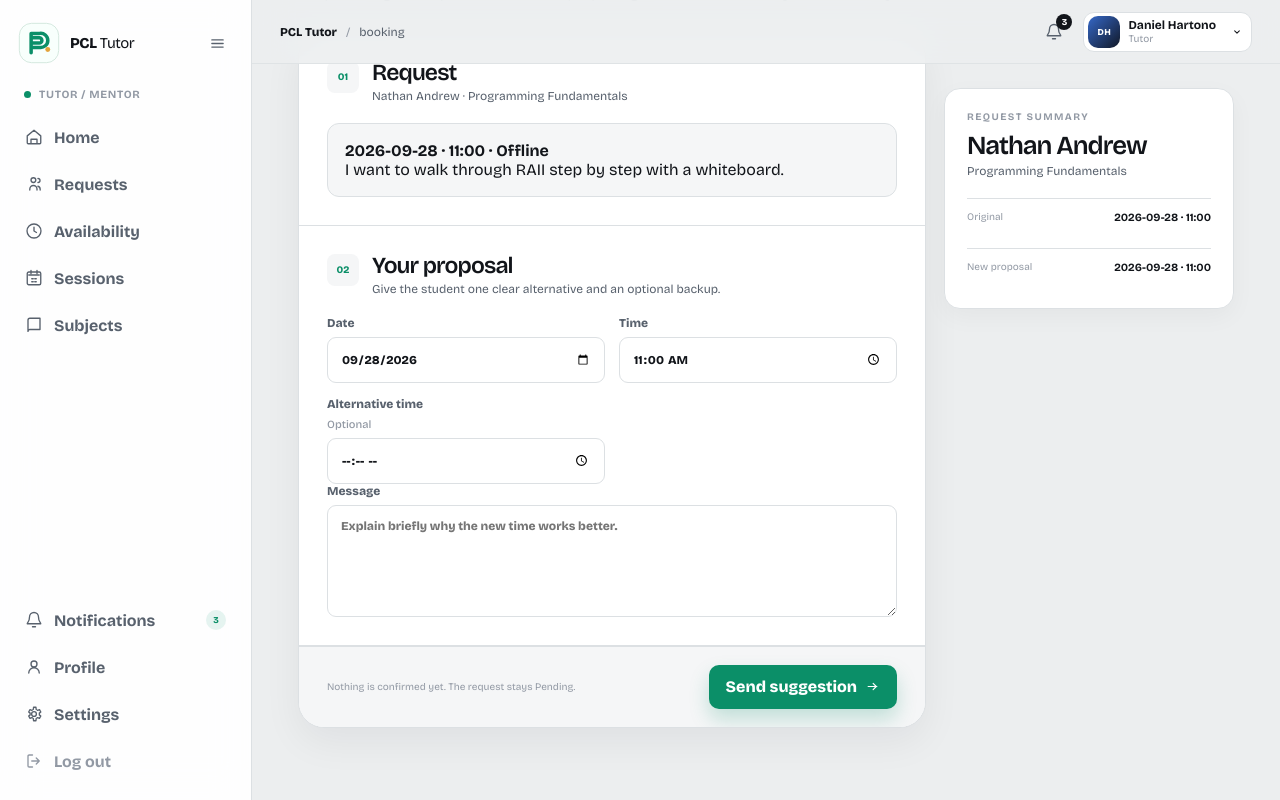
Test: suggest another time form › keeps the typed message after cancelling the review
The image size is (1280, 800).
(page scrolled)
Type "Evening works better" into the text box labelled "Message" at (612, 561), box x1=327 y1=505 x2=897 y2=617
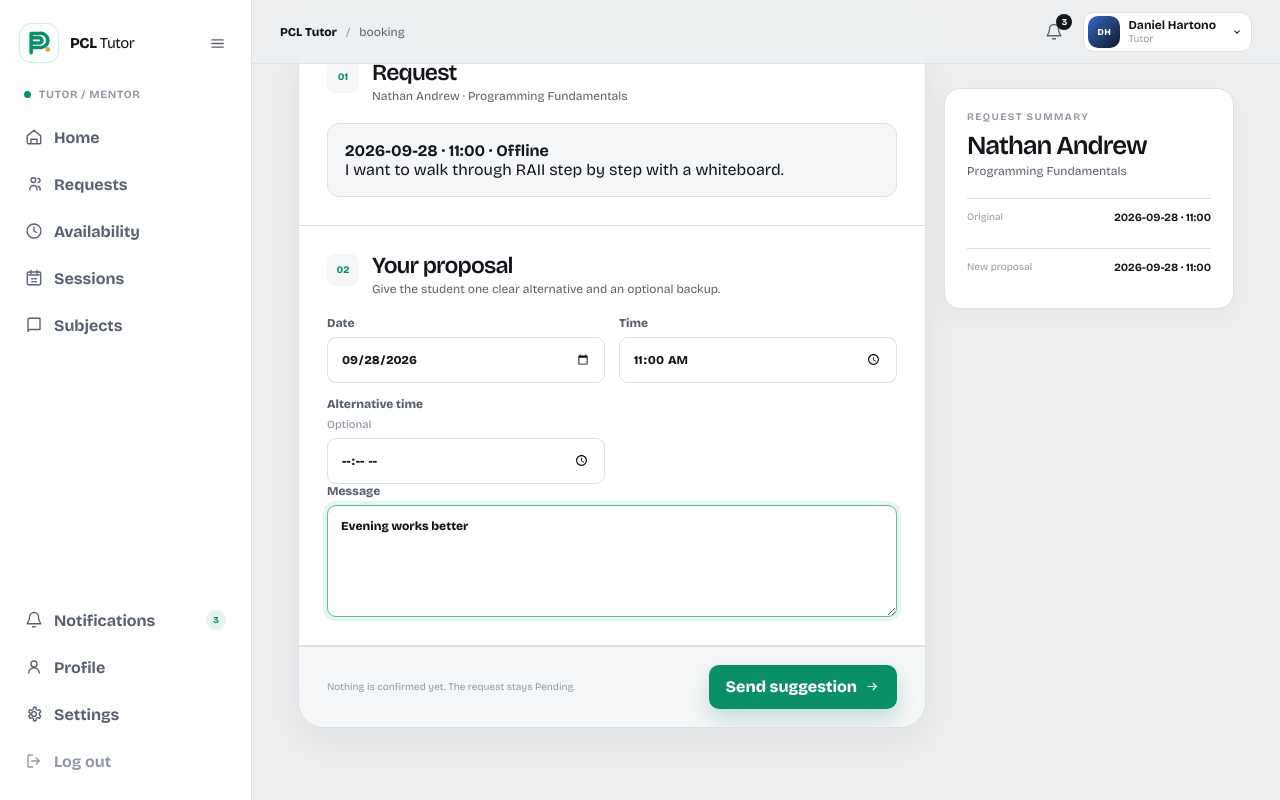
Click the button "Send suggestion" at (803, 687), box x1=709 y1=665 x2=897 y2=709
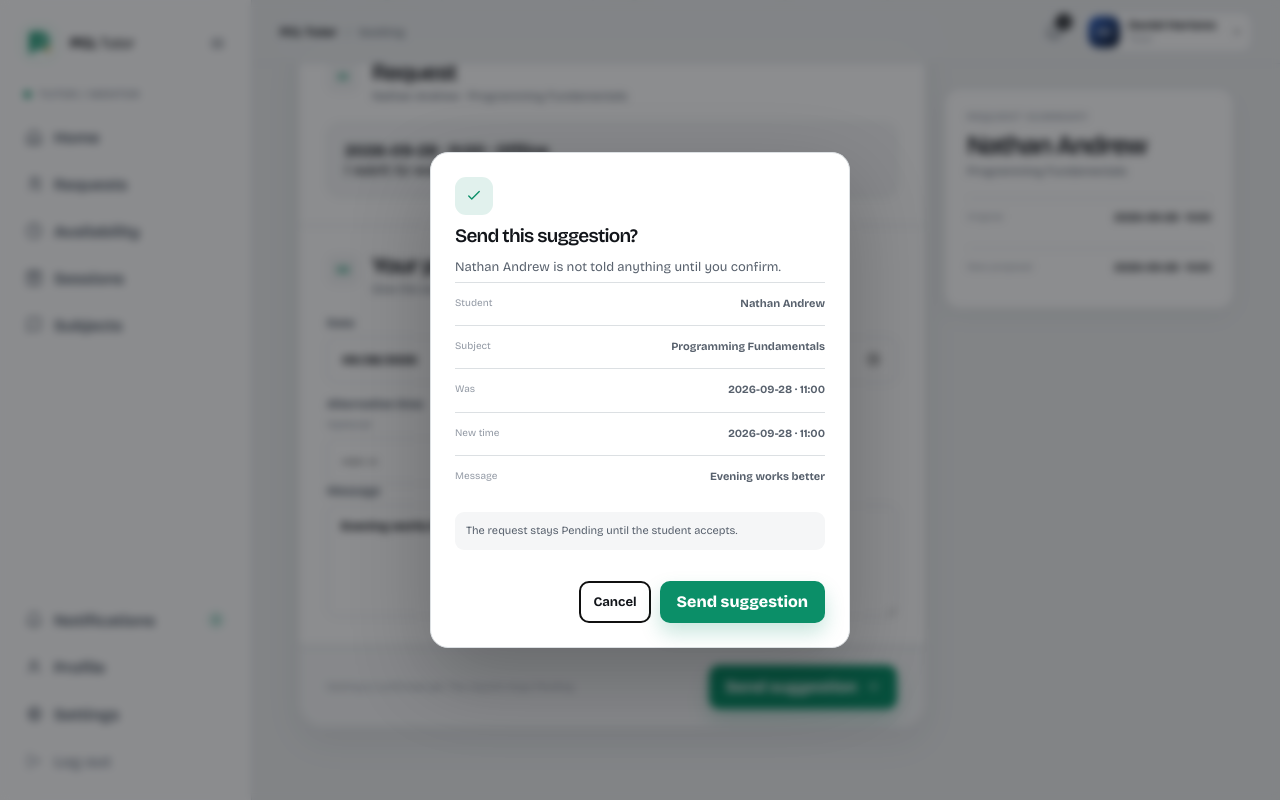
Click the button "Cancel" at (615, 602), box x1=579 y1=581 x2=651 y2=623
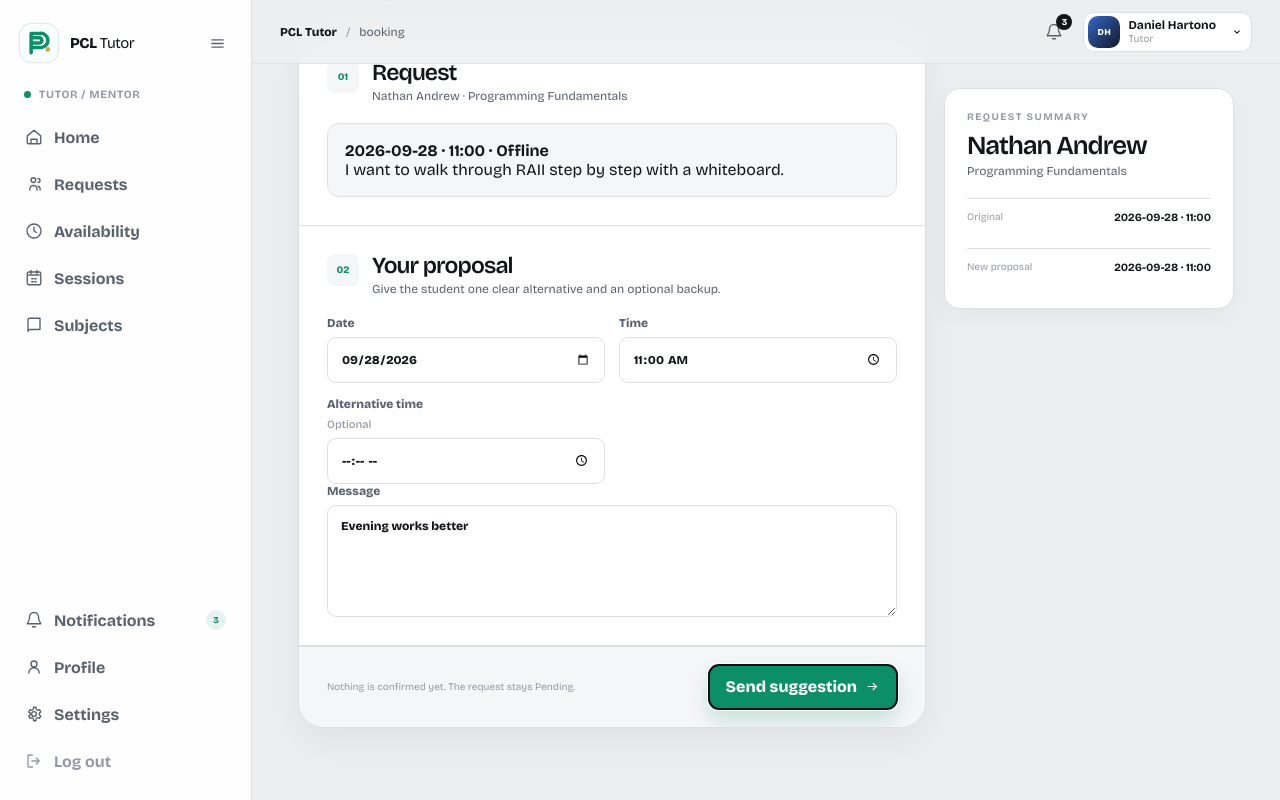
Now the dialog is gone
